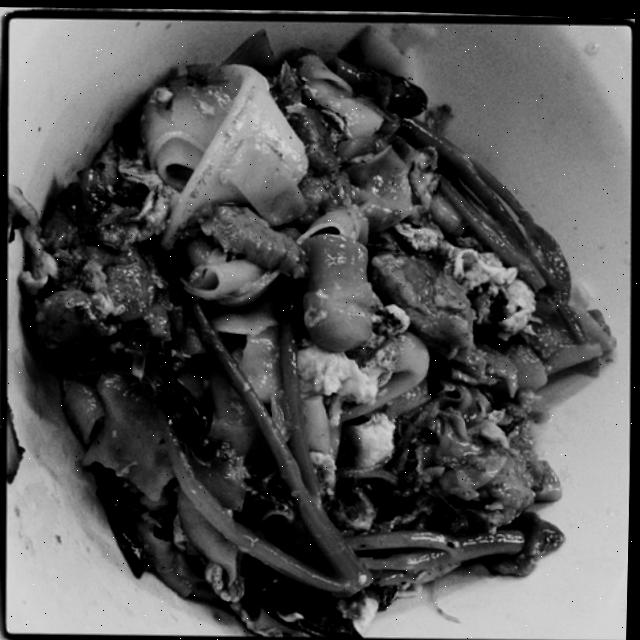面条主食: (11, 24, 626, 636)
